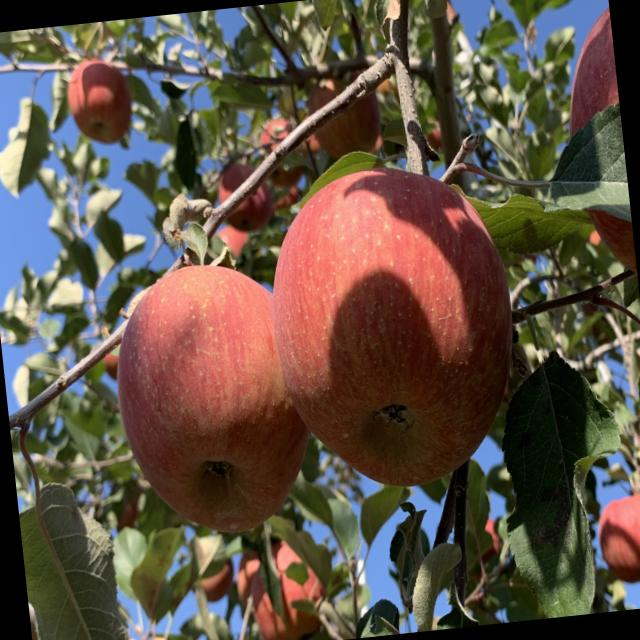fresh: (256, 149, 536, 508), (101, 249, 332, 552)
